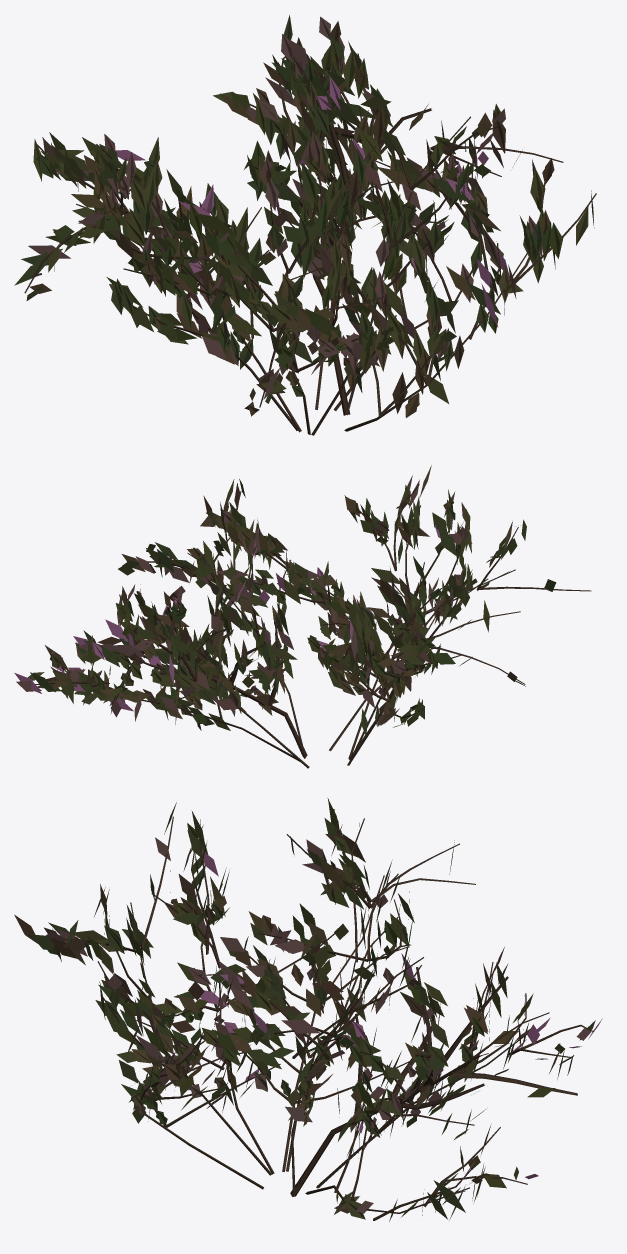
The model's file is heather_twig_a.glb.
3 views of the same model, one above another, from view 1: azimuth 30°, elevation 25°; view 2: azimuth 150°, elevation 25°; view 3: azimuth 270°, elevation 25° (orthographic). The views are drawn at different scales.
Visible parts, largest first — view 1: heather_twig_a; view 2: heather_twig_a; view 3: heather_twig_a.
Boxes of the visible parts, left/top/right/bottom form: heather_twig_a: left=14, top=15, right=596, bottom=435; heather_twig_a: left=14, top=465, right=591, bottom=768; heather_twig_a: left=14, top=798, right=602, bottom=1221.
Size of the model in its own units: 0.6291 by 0.3992 by 0.6315.
